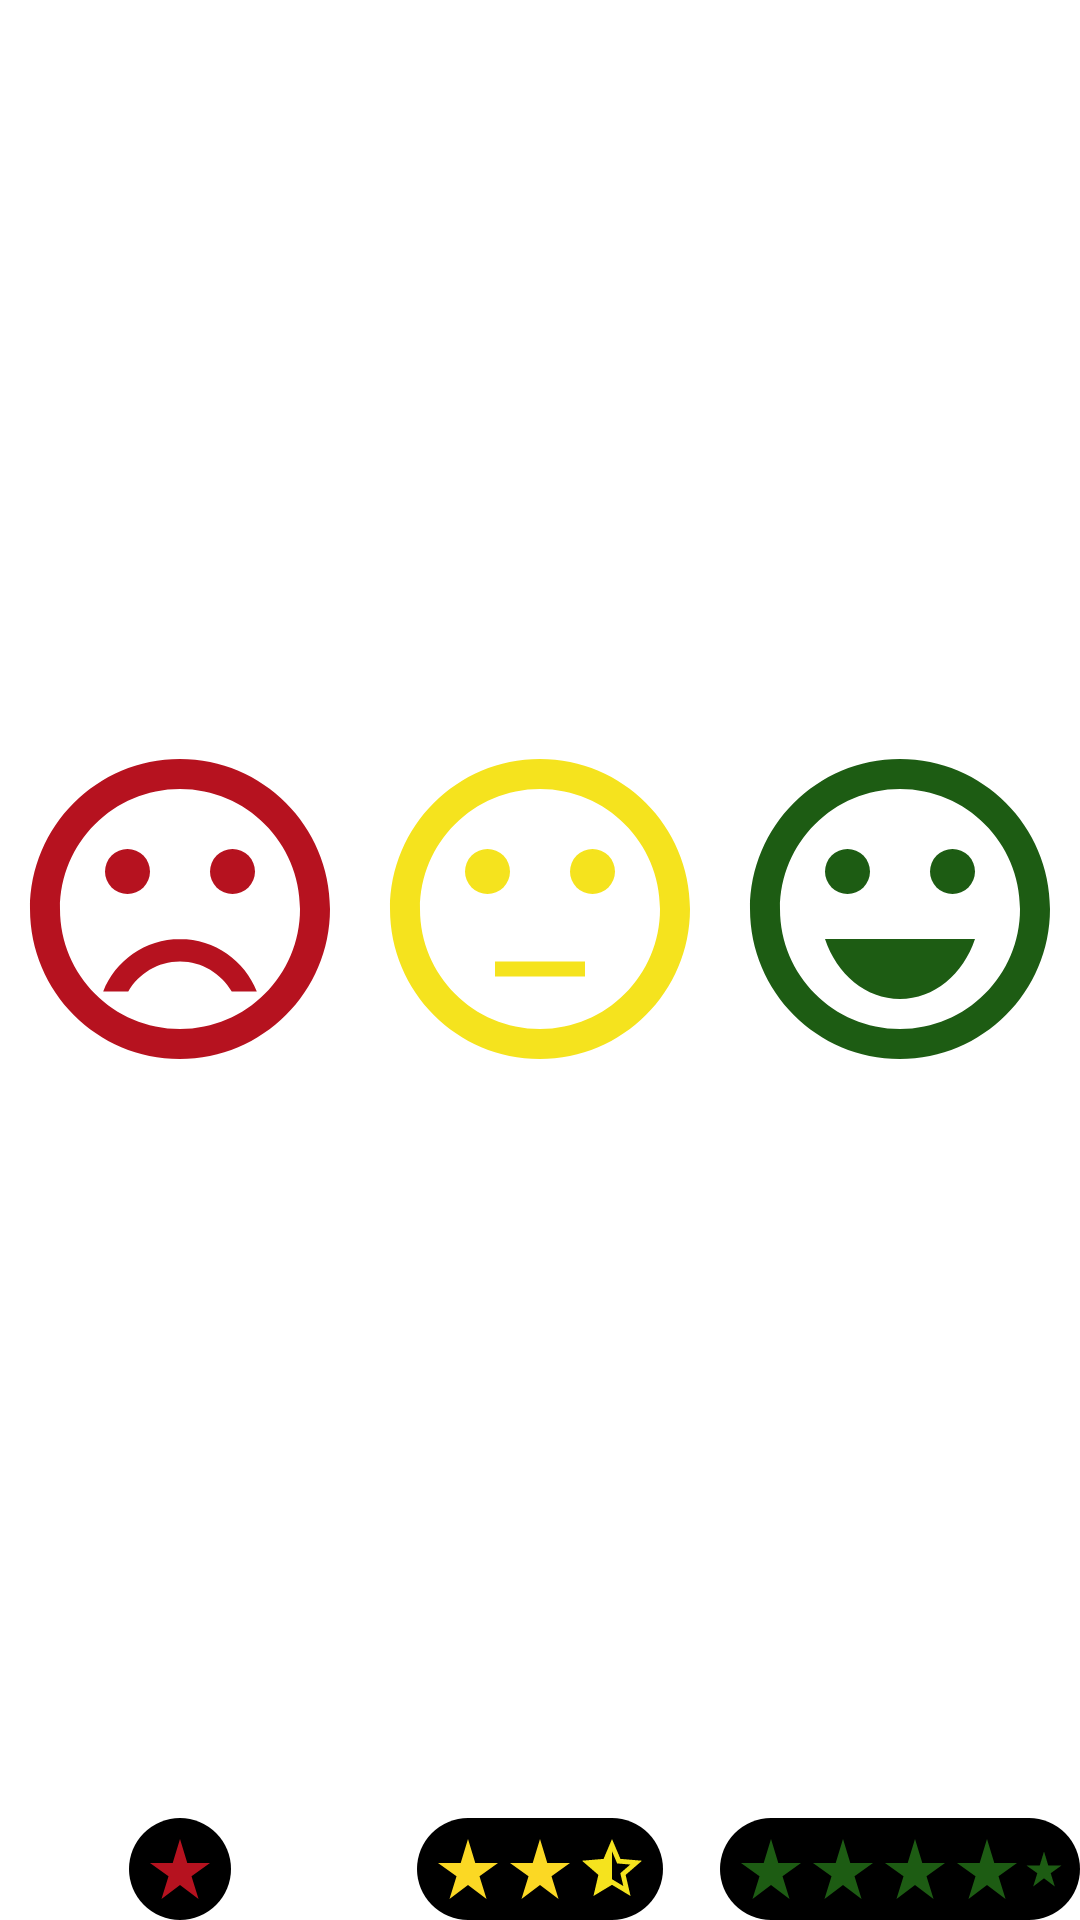

Icons on this 1080px x 1920px Android screen, each with its box as (x1, y1, x2, y2):
dissatisfied star: (150, 1839, 210, 1899)
satisfied star: (438, 1839, 498, 1899), (510, 1839, 570, 1899)
satisfied star half: (582, 1839, 642, 1896)
star very satisfied: (741, 1840, 801, 1899), (813, 1840, 873, 1899), (885, 1840, 945, 1899), (957, 1840, 1017, 1899), (1027, 1852, 1061, 1886)
